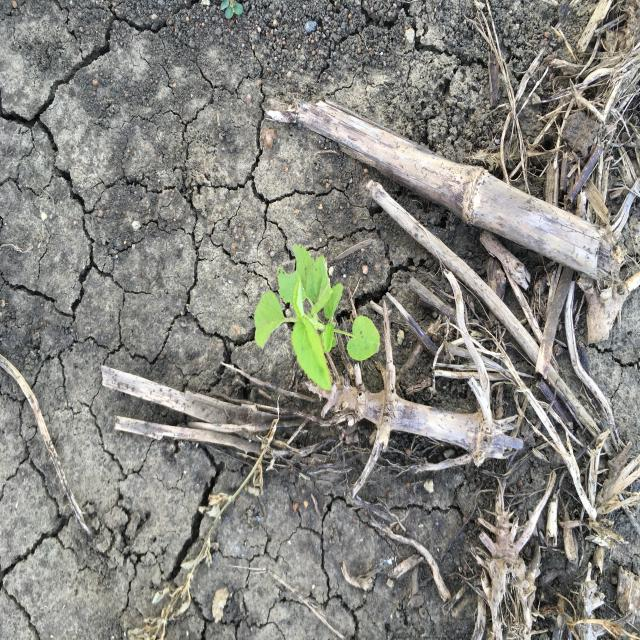PricklySida: (253, 242, 381, 394)
SpottedSpurge: (220, 0, 244, 20)
